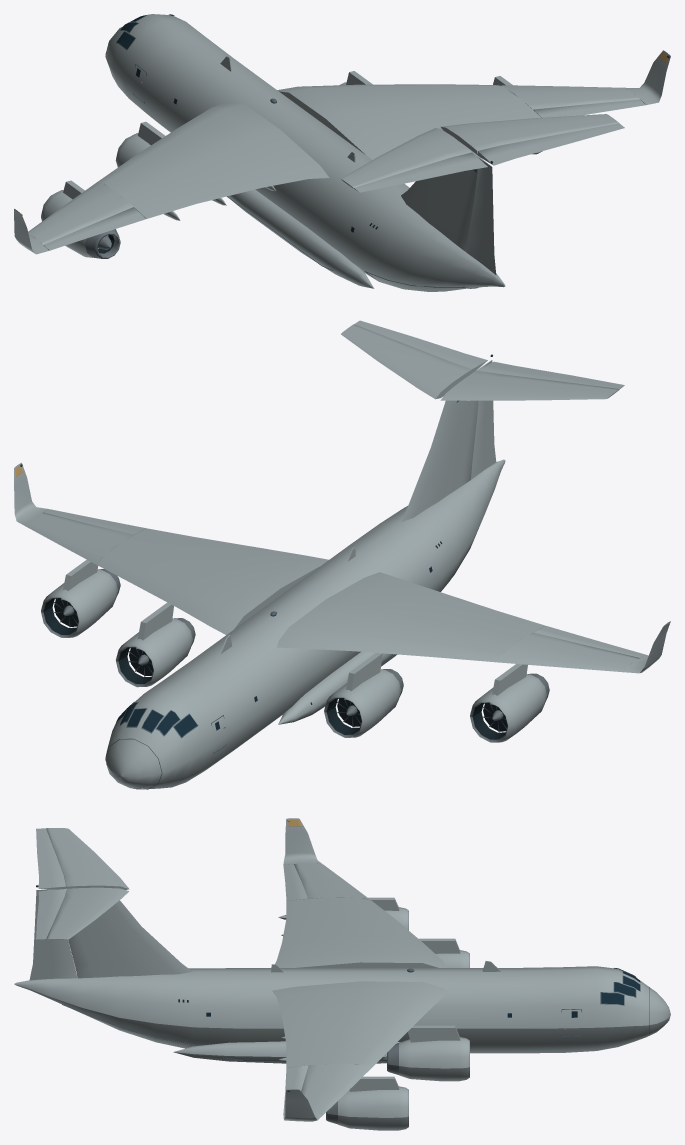
File: player-c17-mobile-v1.glb
3 views of the same model, one above another, from view 1: azimuth 30°, elevation 25°; view 2: azimuth 150°, elevation 25°; view 3: azimuth 270°, elevation 25° (orthographic). The views are drawn at different scales.
Visible parts, largest first — view 1: hull, rudder-skin, elevator-right-skin, elevator-left-skin, aileron-left-skin, aileron-right-skin, metal, trim; view 2: hull, dark, metal, rudder-skin, elevator-right-skin, glass, elevator-left-skin, aileron-left-skin, aileron-right-skin, trim; view 3: hull, rudder-skin, elevator-left-skin, elevator-right-skin, glass, metal, trim, aileron-left-skin, aileron-right-skin.
Boxes of the visible parts, x1=… form: hull: x1=14, y1=14, x2=670, y2=291; rudder-skin: x1=466, y1=158, x2=496, y2=274; elevator-right-skin: x1=477, y1=123, x2=624, y2=165; elevator-left-skin: x1=354, y1=152, x2=487, y2=192; aileron-left-skin: x1=43, y1=207, x2=145, y2=250; aileron-right-skin: x1=533, y1=99, x2=645, y2=117; metal: x1=46, y1=81, x2=542, y2=258; trim: x1=105, y1=14, x2=478, y2=288; hull: x1=14, y1=324, x2=670, y2=788; dark: x1=43, y1=541, x2=507, y2=739; metal: x1=41, y1=569, x2=549, y2=741; rudder-skin: x1=471, y1=360, x2=496, y2=479; elevator-right-skin: x1=354, y1=320, x2=487, y2=373; glass: x1=20, y1=354, x2=492, y2=736; elevator-left-skin: x1=478, y1=361, x2=624, y2=388; aileron-left-skin: x1=533, y1=626, x2=645, y2=657; aileron-right-skin: x1=44, y1=509, x2=145, y2=534; trim: x1=105, y1=400, x2=459, y2=789; hull: x1=14, y1=818, x2=670, y2=1130; rudder-skin: x1=29, y1=889, x2=76, y2=980; elevator-left-skin: x1=36, y1=828, x2=66, y2=889; elevator-right-skin: x1=36, y1=889, x2=66, y2=939; glass: x1=36, y1=885, x2=639, y2=1091; metal: x1=326, y1=911, x2=566, y2=1126; trim: x1=62, y1=968, x2=649, y2=1060; aileron-left-skin: x1=283, y1=864, x2=308, y2=900; aileron-right-skin: x1=283, y1=1065, x2=308, y2=1114.
Bounding box in the file's own units: 51.75 × 14.79 × 53.
